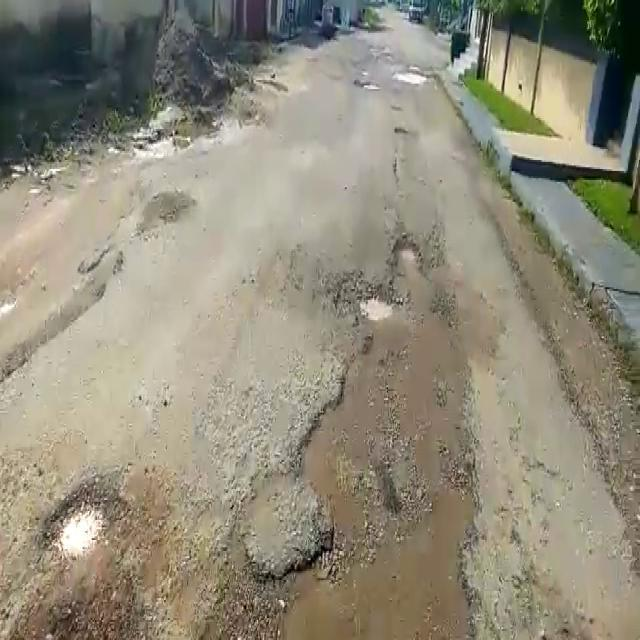pothole: (37, 484, 120, 556), (335, 269, 394, 333), (391, 233, 424, 273)
